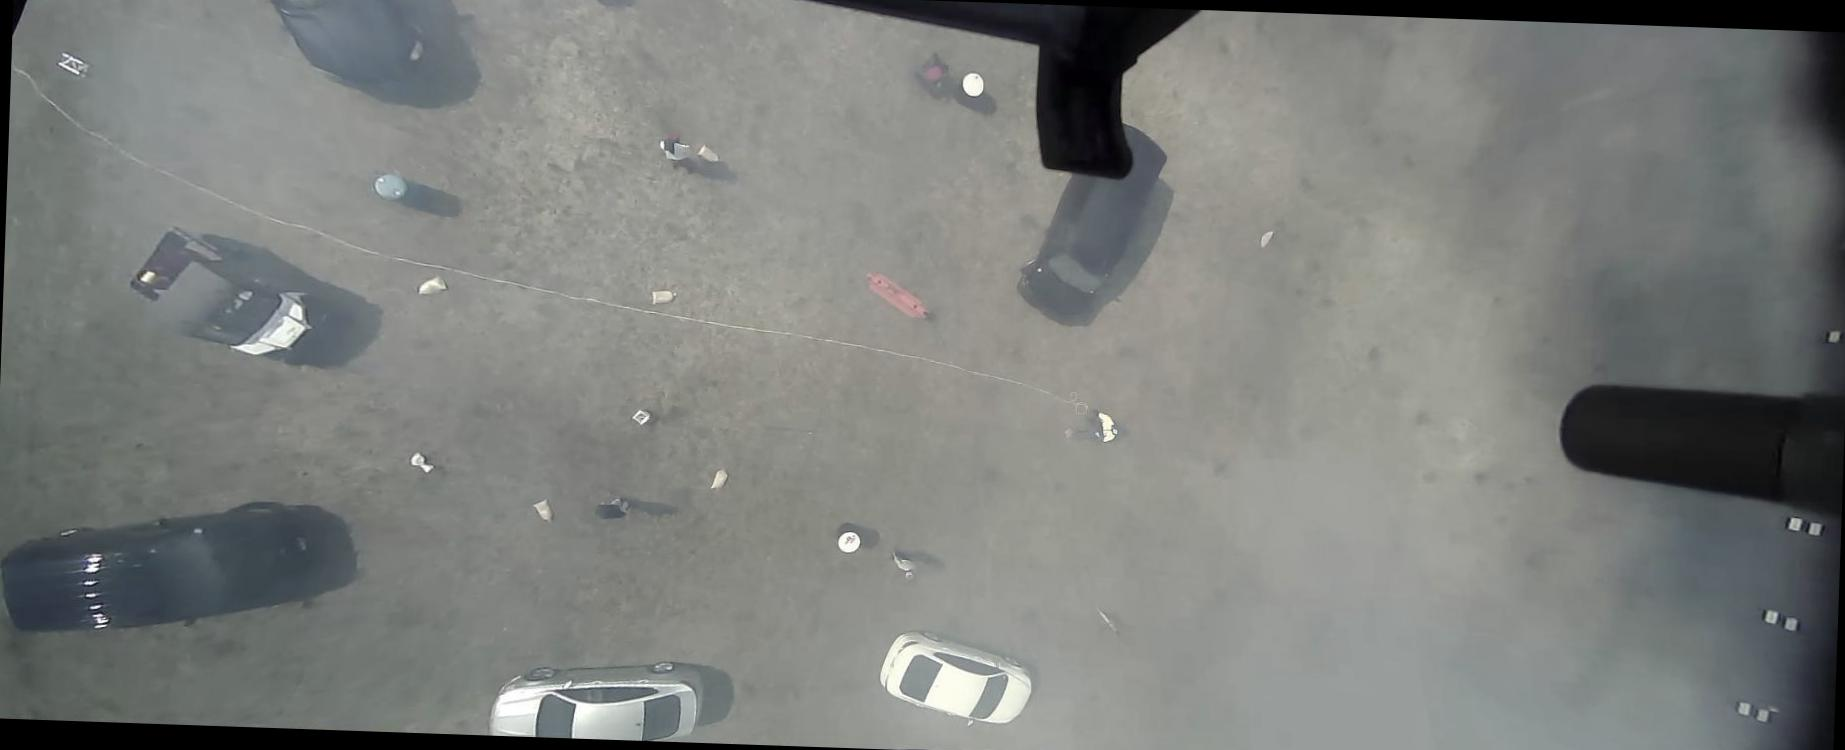vehicle: (0, 490, 315, 642), (1014, 118, 1173, 328), (124, 223, 329, 369), (484, 653, 705, 742), (237, 0, 431, 91), (875, 628, 1034, 730)
